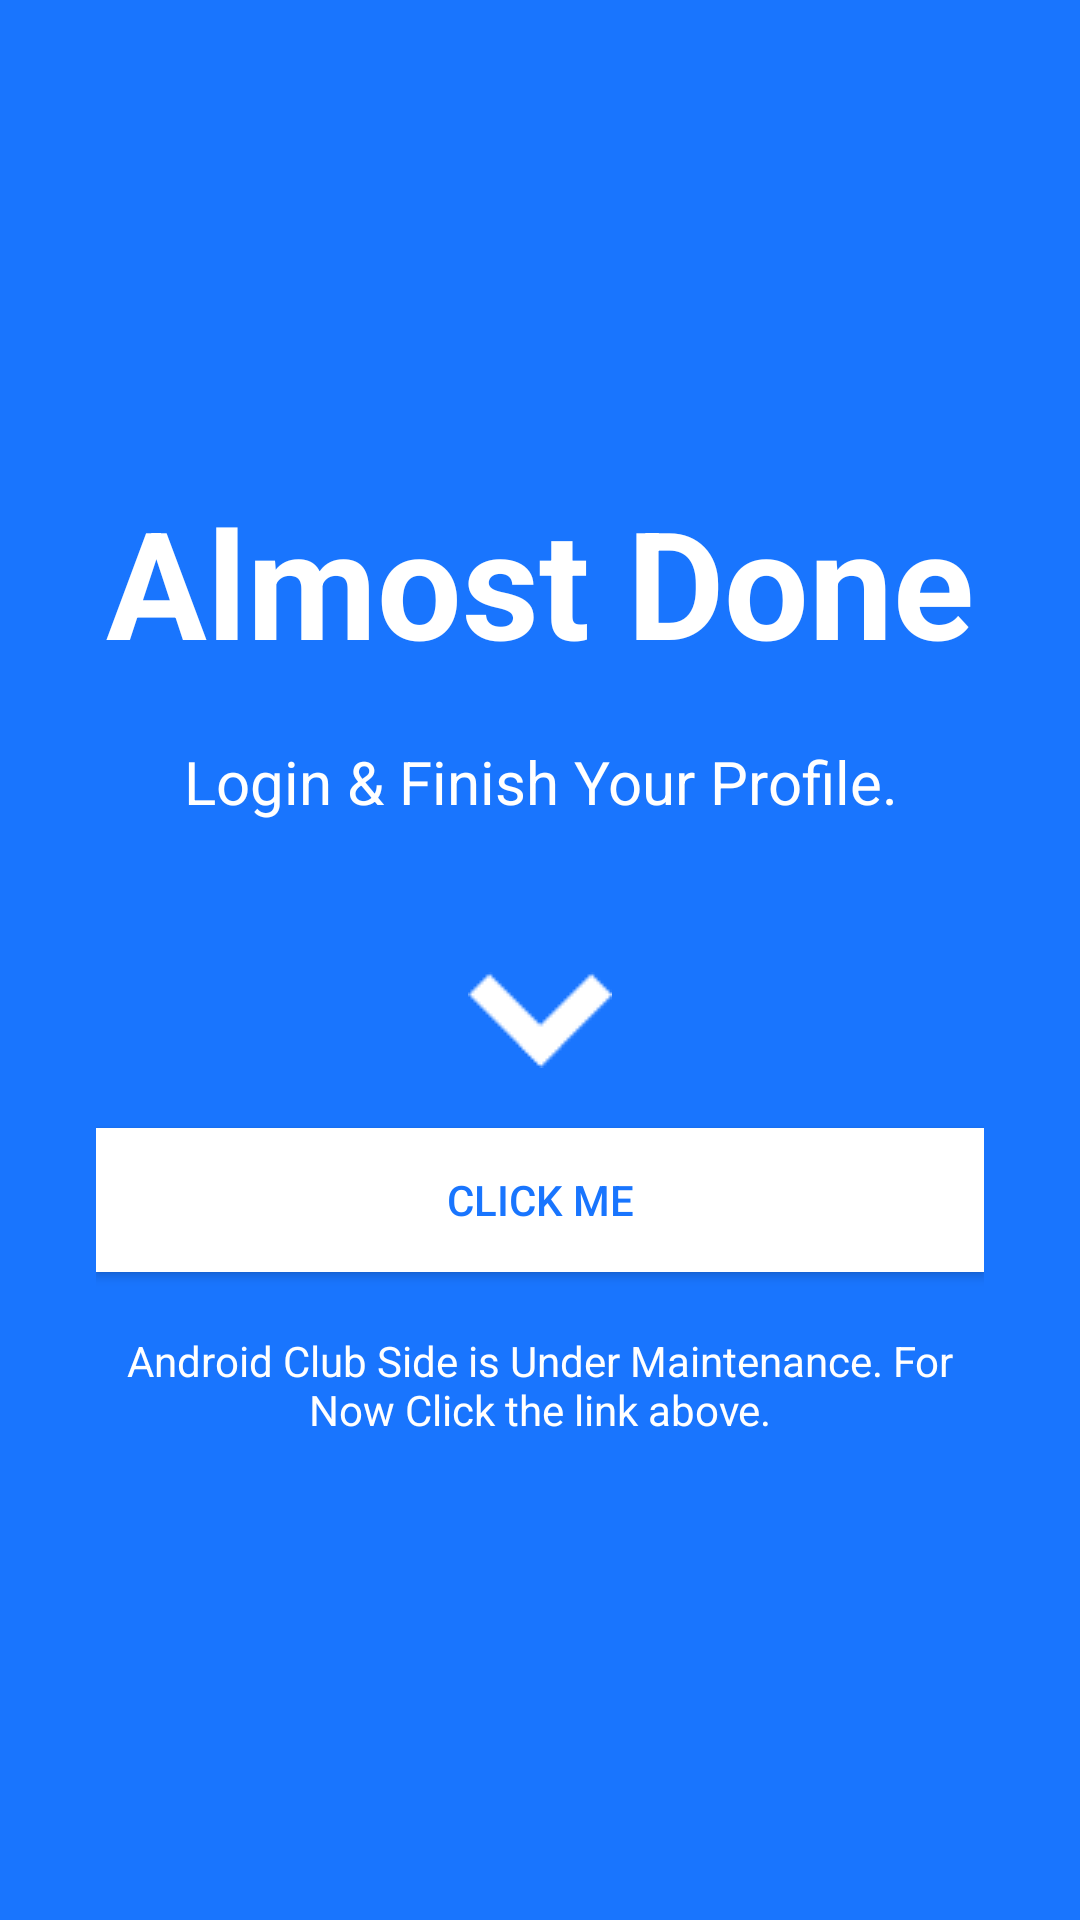

Icons on this 1080 × 1920 Android screen, each with the point to tap as point (x, y):
arrow down: point (540, 1021)
